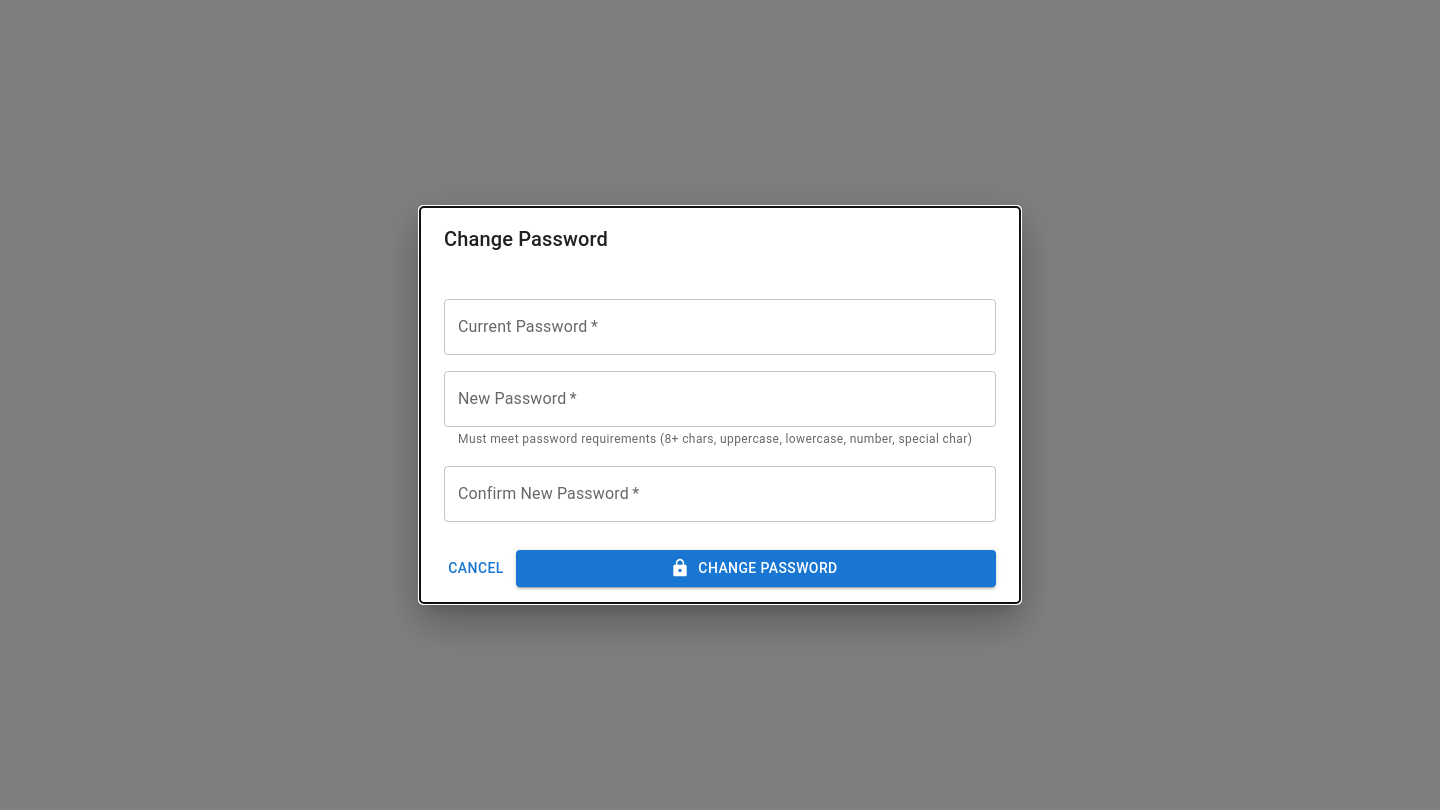
Test: ChangePasswordForm › should validate new password is required
Type "CurrentPass123!" into the password field labelled "Current Password *" at (720, 327), box [444, 299, 996, 355]
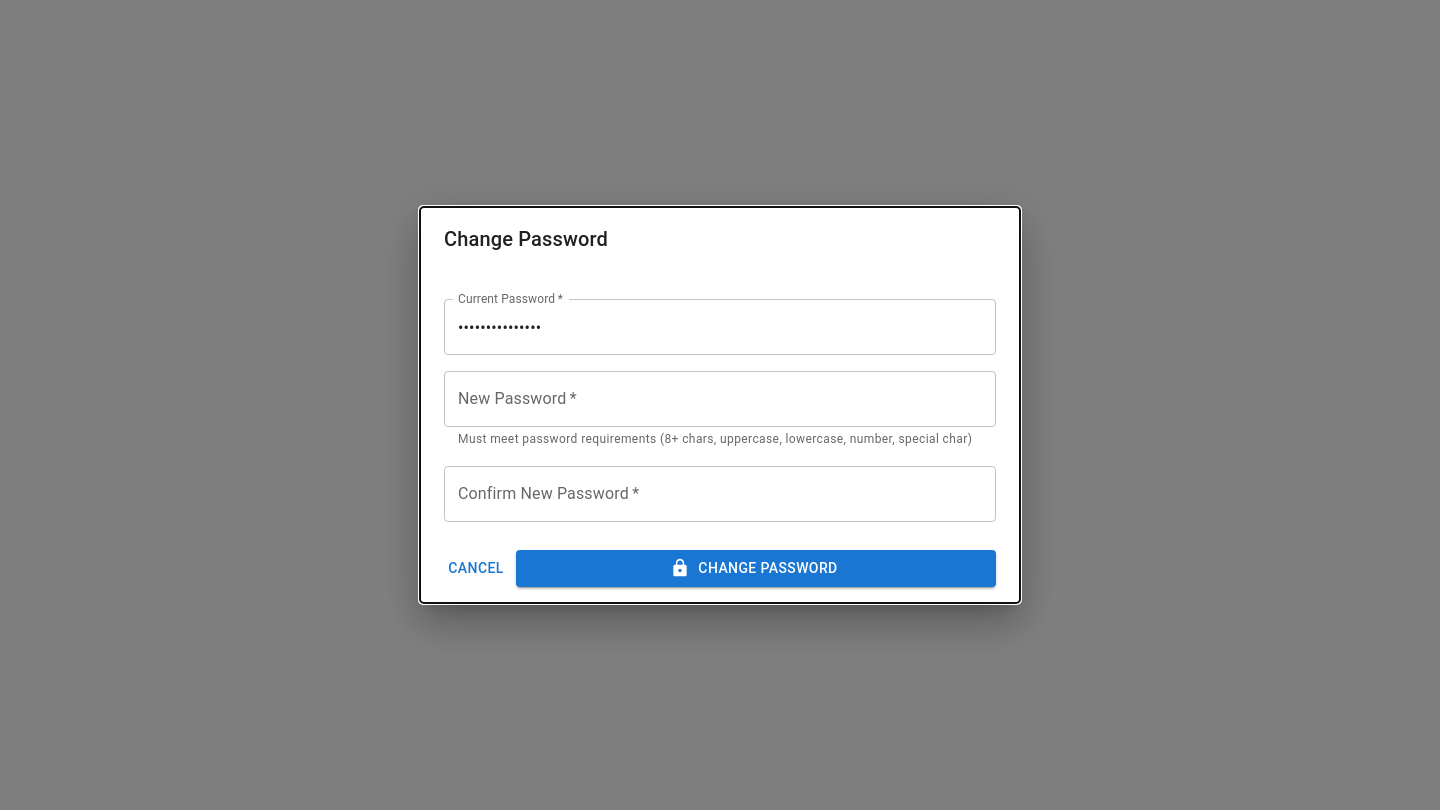
Submit the form named "change password", box [420, 271, 1020, 603]
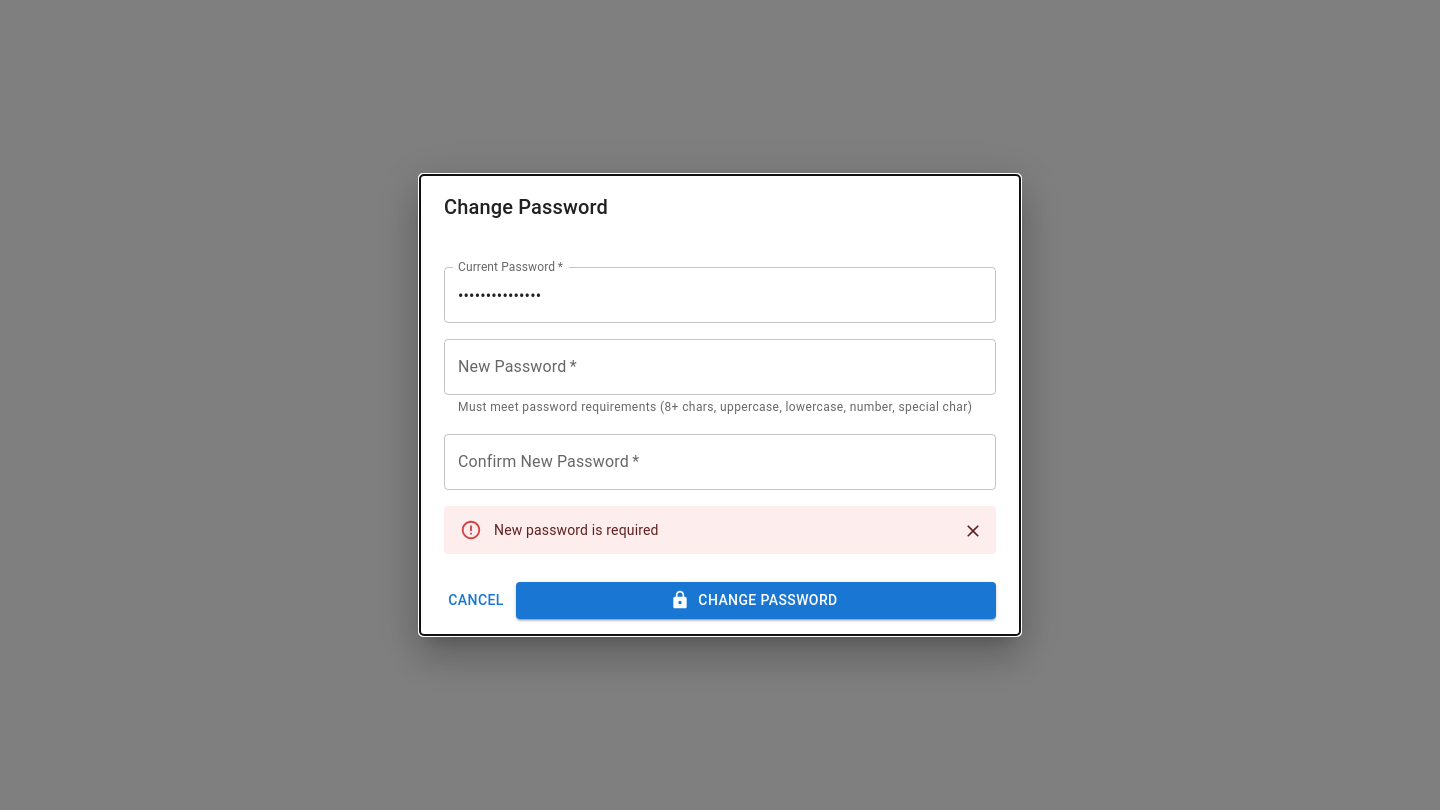
Now the text "New password is required" is shown, box [494, 522, 659, 538]
